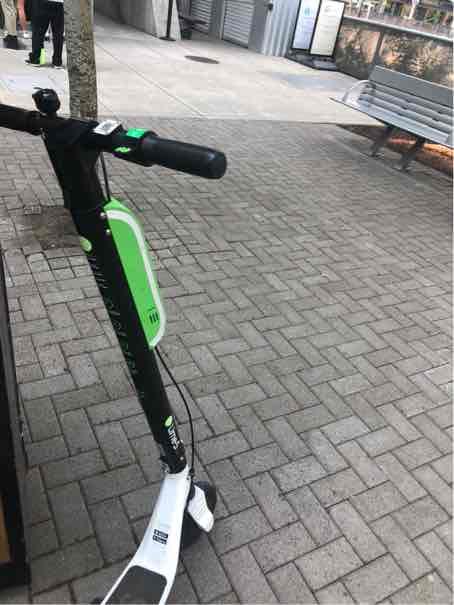scooter: (4, 79, 228, 604)
